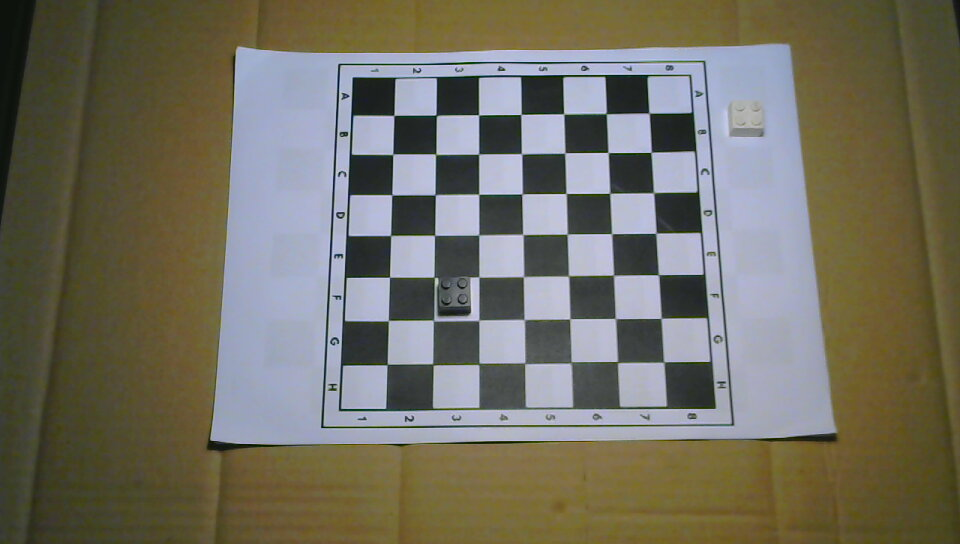bp: (436, 276, 472, 315)
wp: (727, 98, 765, 138)
